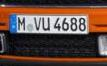4: (53, 16, 62, 31)
6: (61, 17, 69, 31)
8: (70, 17, 78, 31), (79, 17, 86, 32)
M: (17, 16, 26, 31)
U: (42, 16, 51, 32)
V: (33, 16, 41, 31)
